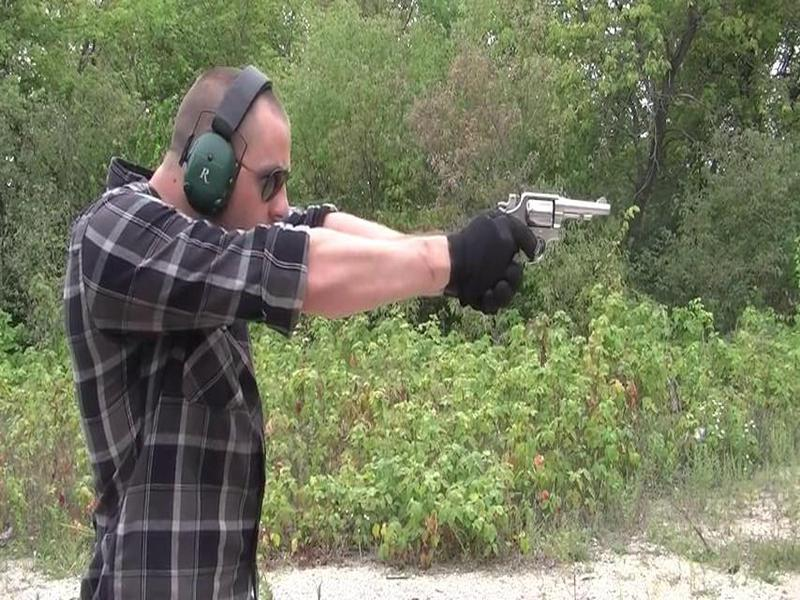Revolver: (489, 184, 623, 274)
